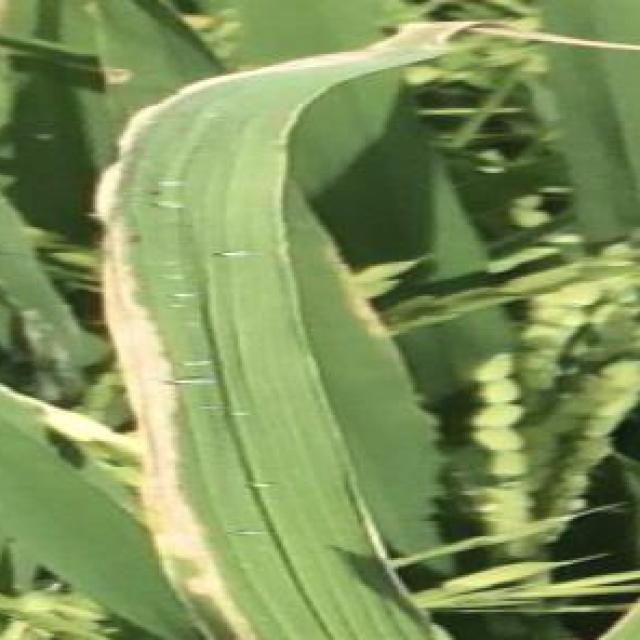Bacterial_Leaf_Blight: (112, 102, 326, 606)
